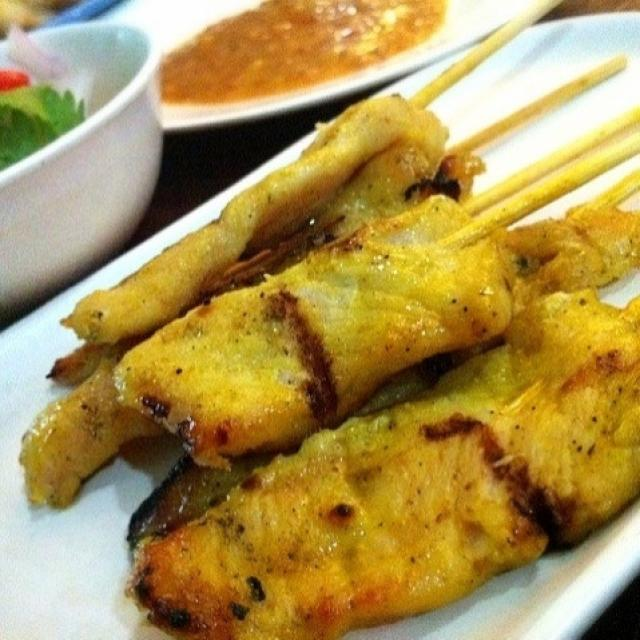牛肉菜式: (33, 17, 630, 619)
